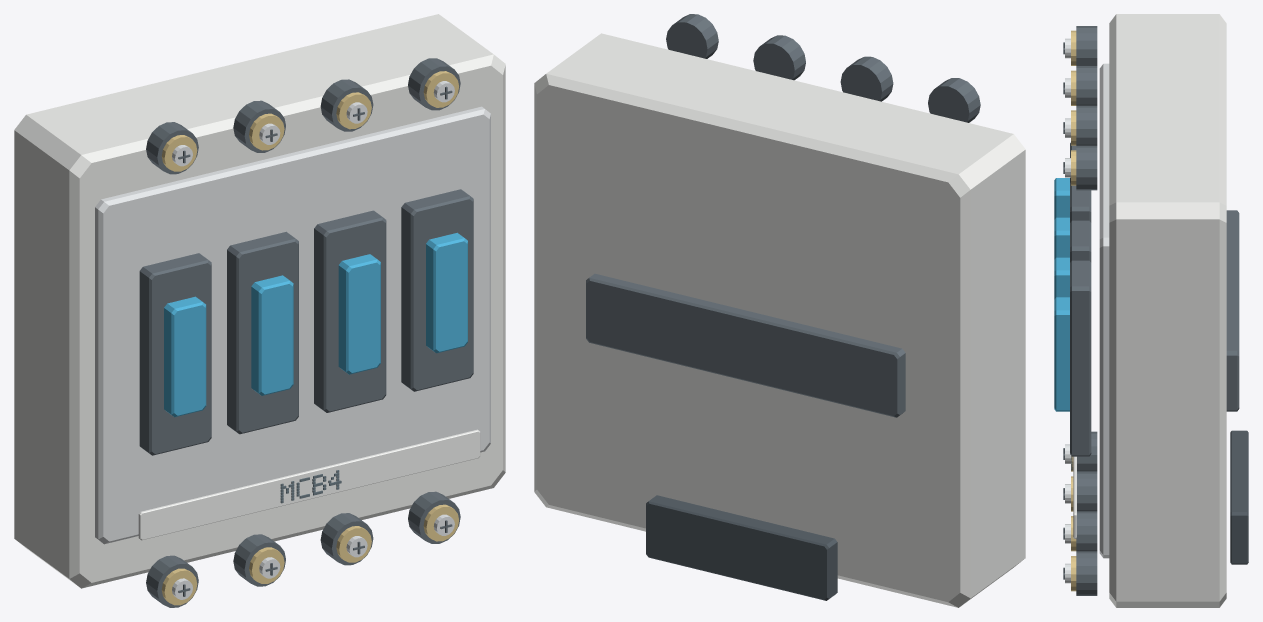
The model's file is mcb4P.glb.
The picture shows the model from 3 angles, left to right: view 1: azimuth 30°, elevation 25°; view 2: azimuth 150°, elevation 25°; view 3: azimuth 270°, elevation 25°; orthographic projection. The views are drawn at different scales.
Parts seen in each view (by area): view 1: mcb4P-preview; view 2: mcb4P-preview; view 3: mcb4P-preview.
Part boxes in pixels (bbox=[...]): mcb4P-preview: bbox=[14, 14, 505, 607]; mcb4P-preview: bbox=[534, 14, 1025, 607]; mcb4P-preview: bbox=[1054, 14, 1248, 607].
Size of the model in its own units: 3.29 by 3.44 by 1.36.
